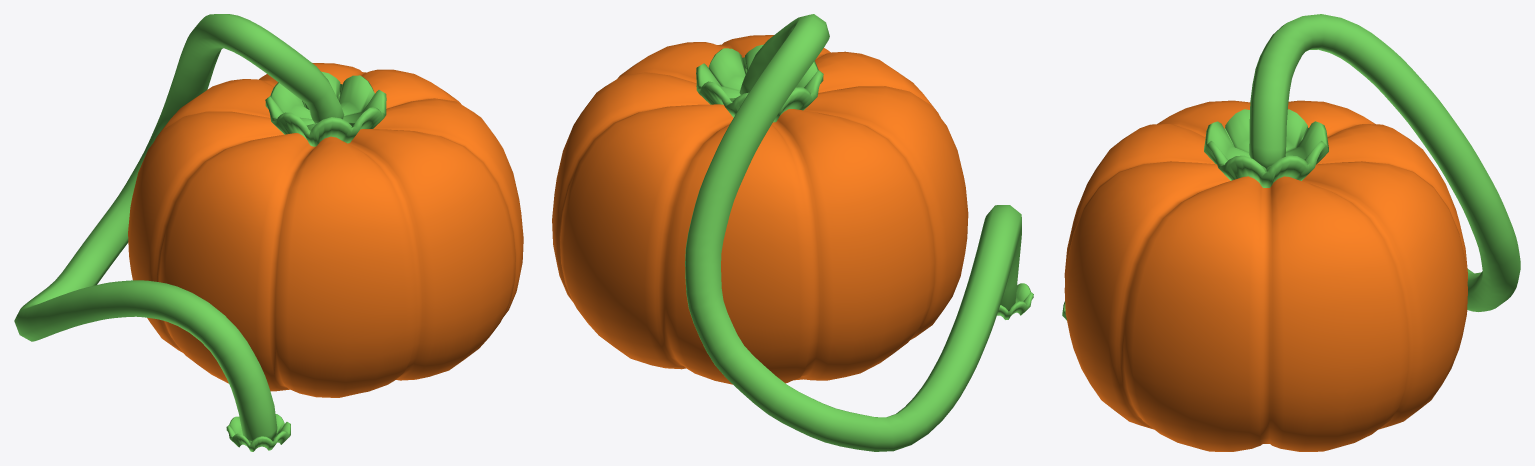
Rendered from Pumkin_Big.fbx.
The picture shows the model from 3 angles, left to right: view 1: azimuth 30°, elevation 25°; view 2: azimuth 150°, elevation 25°; view 3: azimuth 270°, elevation 25°; orthographic projection. The views are drawn at different scales.
Parts seen in each view (by area): view 1: Pumkin_Big; view 2: Pumkin_Big; view 3: Pumkin_Big.
Part boxes in pixels (left/top/right/bottom): Pumkin_Big: left=14, top=14, right=523, bottom=451; Pumkin_Big: left=552, top=14, right=1033, bottom=451; Pumkin_Big: left=1062, top=14, right=1520, bottom=451.
Bounding box in the file's own units: 101 × 77.15 × 90.97.
